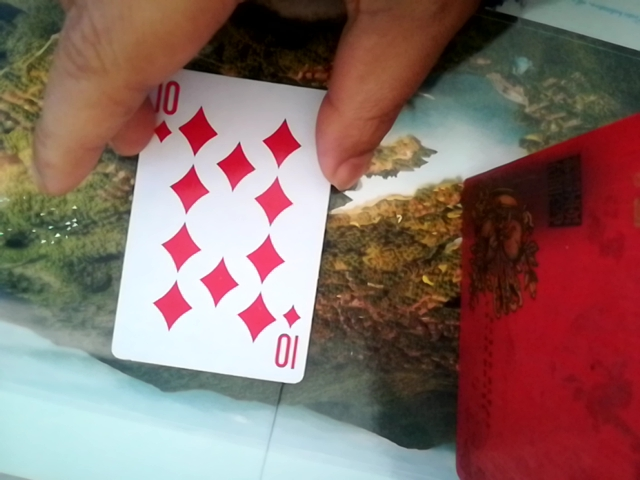fk 10: (110, 65, 325, 394)
